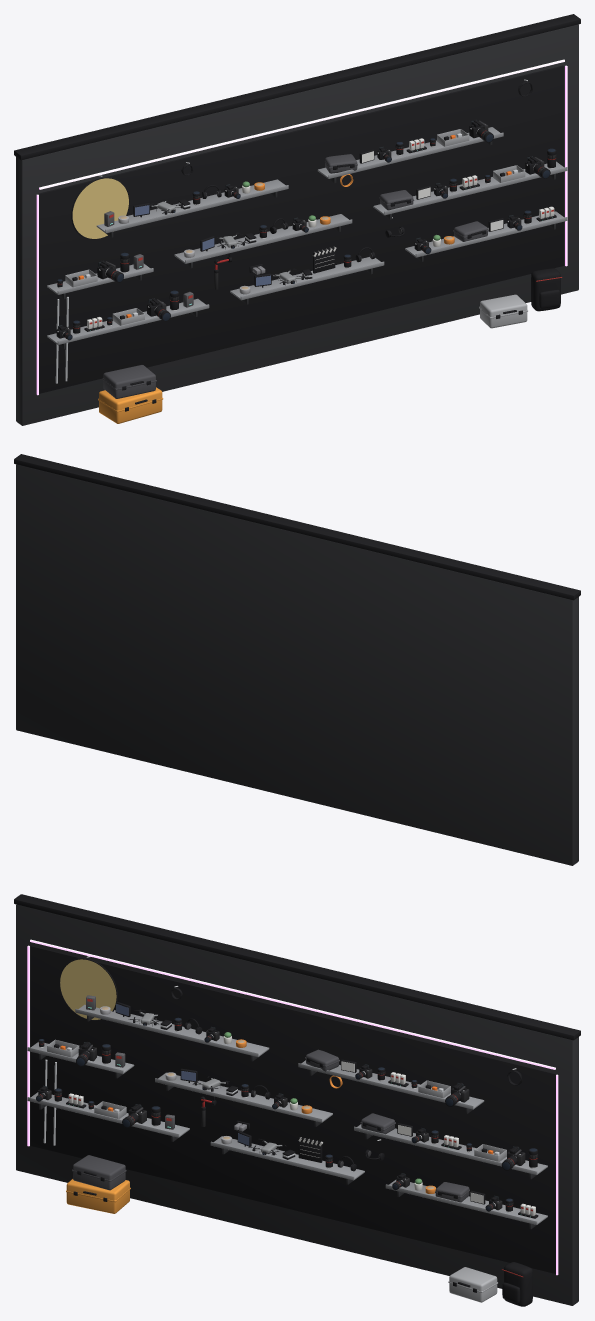
Rendered from parete-attrezzatura.glb.
3 renders of one model, top to bottom at view 1: azimuth 30°, elevation 25°; view 2: azimuth 150°, elevation 25°; view 3: azimuth 330°, elevation 25°, orthographic.
Parts seen in each view (by area): view 1: parete_pannello, parete_attrezzatura, parete_oggetti, parete_led; view 2: parete_attrezzatura; view 3: parete_pannello, parete_attrezzatura, parete_oggetti, parete_led.
Boxes of the visible parts, left/top/right/bottom form: parete_pannello: left=38, top=65, right=563, bottom=393; parete_attrezzatura: left=14, top=14, right=580, bottom=425; parete_oggetti: left=55, top=79, right=562, bottom=423; parete_led: left=36, top=59, right=567, bottom=395; parete_attrezzatura: left=14, top=454, right=580, bottom=865; parete_pannello: left=31, top=945, right=556, bottom=1273; parete_attrezzatura: left=14, top=894, right=580, bottom=1305; parete_oggetti: left=36, top=956, right=538, bottom=1306; parete_led: left=27, top=939, right=558, bottom=1275.
Size of the model in its own units: 7.04 by 3.26 by 0.6569.
